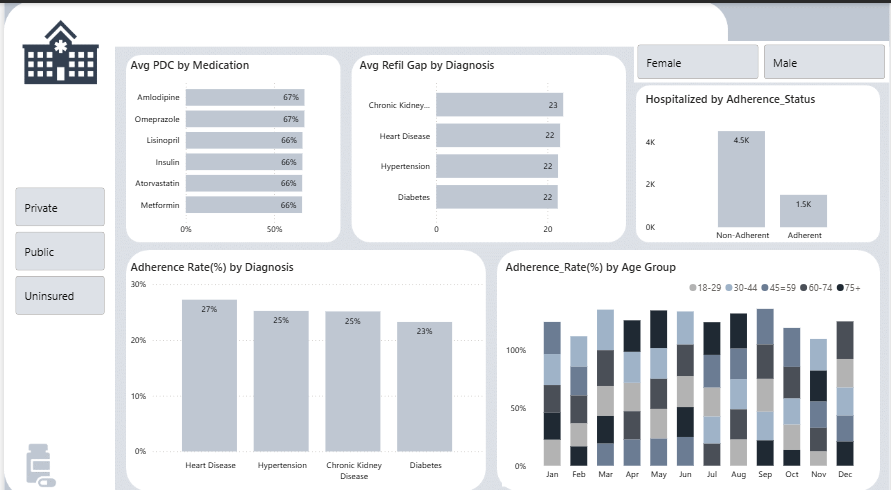

Layout of this report page (visuals, bound fields, positions):
{"tool":"powerbi","page":{"name":"Page 2","canvas":[1280,720],"ordinal":1},"visuals":[{"type":"ribbonChart","title":"Adherence_Rate(%) by Age Group","fields":{"Category":["Month_Lookup.Observation_Month"],"Series":["medication_adherence.Age Group"],"Y":["medication_adherence.Adherence_Rate(%)"]},"box":[720,370.8,529.2,329.2],"z":0},{"type":"barChart","title":"Avg PDC by Medication","fields":{"Y":["medication_adherence.Average_PDC"],"Category":["medication_adherence.Medication"]},"box":[178.5,78.5,304.6,267.7],"z":1000},{"type":"barChart","title":"Avg Refil Gap by Diagnosis","fields":{"Y":["medication_adherence.Average_Refil_Gap"],"Category":["medication_adherence.Diagnosis"]},"box":[508.9,78.1,413.5,267.5],"z":2000},{"type":"clusteredColumnChart","title":"Adherence Rate(%) by Diagnosis","fields":{"Category":["medication_adherence.Diagnosis"],"Y":["medication_adherence.Adherence_Rate(%)"]},"box":[178.5,370.8,520,329.2],"z":3000},{"type":"clusteredColumnChart","title":"Hospitalized by Adherence_Status","fields":{"Category":["medication_adherence.Adherence_Status"],"Y":["CountNonNull(medication_adherence.Hospitalized)"]},"box":[922.4,127.2,357.1,227],"z":4000},{"type":"advancedSlicerVisual","fields":{"Values":["medication_adherence.Sex"]},"box":[910.8,55.4,369.2,60],"z":5000},{"type":"advancedSlicerVisual","fields":{"Values":["medication_adherence.Insurance_Type"]},"box":[11.8,261.6,139.6,195.4],"z":6000}]}

Visuals, with their boxes in screenshot pixels (x1, y1, x2, y2), scaled from the page's 1280x720 canvas onto the 891x490 screenshot:
"Adherence_Rate(%) by Age Group" ribbonChart: (left=501, top=252, right=870, bottom=476)
"Avg PDC by Medication" barChart: (left=124, top=53, right=336, bottom=236)
"Avg Refil Gap by Diagnosis" barChart: (left=354, top=53, right=642, bottom=235)
"Adherence Rate(%) by Diagnosis" clusteredColumnChart: (left=124, top=252, right=486, bottom=476)
"Hospitalized by Adherence_Status" clusteredColumnChart: (left=642, top=87, right=890, bottom=241)
advancedSlicerVisual - medication_adherence.Sex: (left=634, top=38, right=890, bottom=79)
advancedSlicerVisual - medication_adherence.Insurance_Type: (left=8, top=178, right=105, bottom=311)
